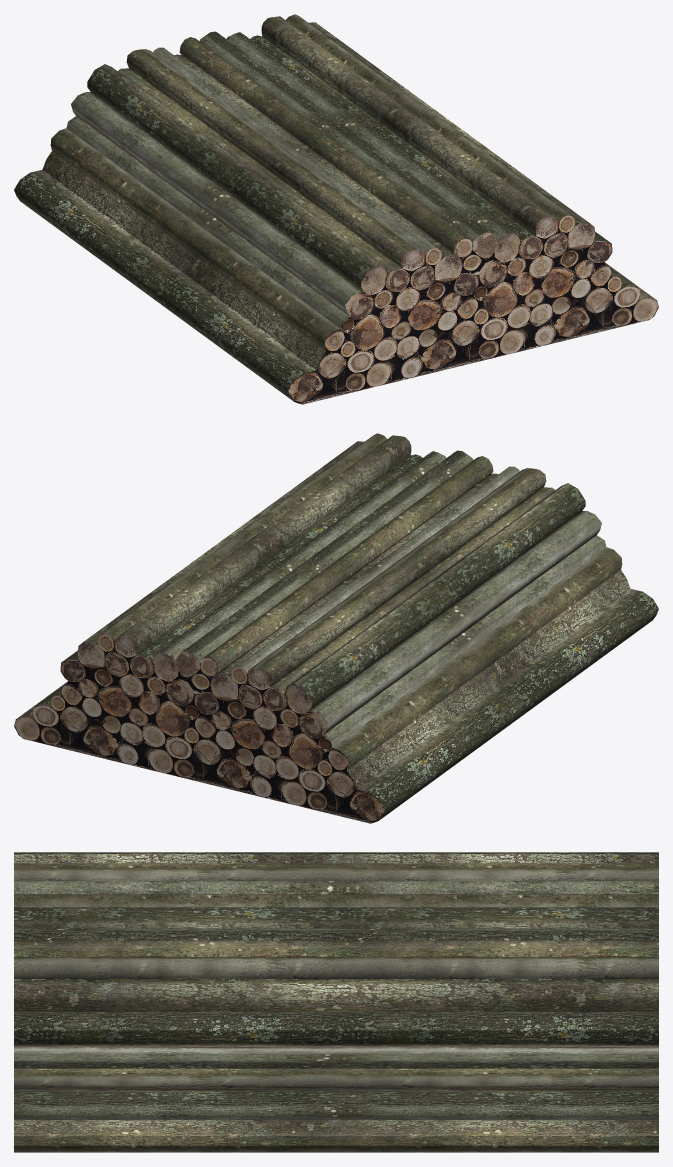
The model's file is Wood.FBX.
3 views of the same model, one above another, from view 1: azimuth 30°, elevation 25°; view 2: azimuth 150°, elevation 25°; view 3: azimuth 270°, elevation 25° (orthographic). The views are drawn at different scales.
Parts seen in each view (by area): view 1: Wood; view 2: Wood; view 3: Wood.
Part boxes in pixels (<box>): Wood: <box>14,14,658,404</box>; Wood: <box>14,433,658,823</box>; Wood: <box>14,852,658,1152</box>.
Bounding box in the file's own units: 412 × 528 × 135.
Materials: 2 (2 with a texture image).
